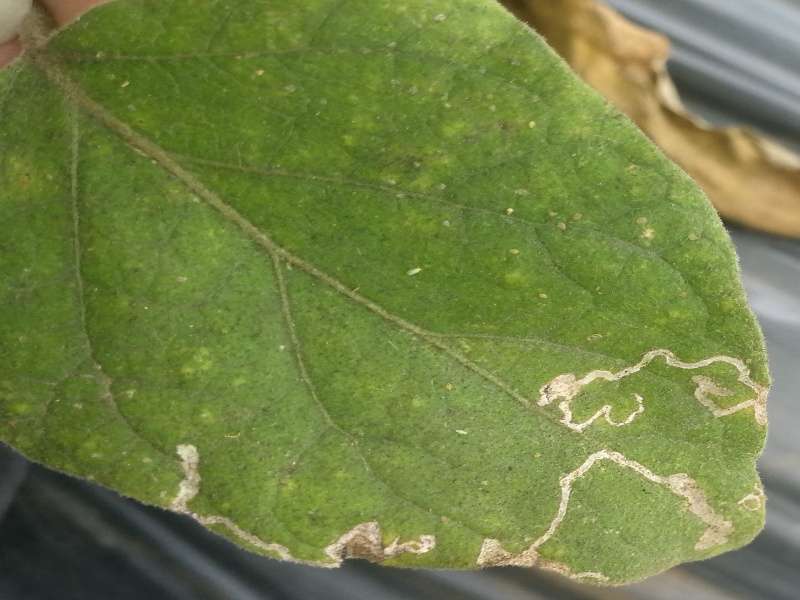leafminer: (475, 447, 739, 584), (165, 440, 442, 570), (535, 348, 769, 431), (732, 478, 768, 520)
